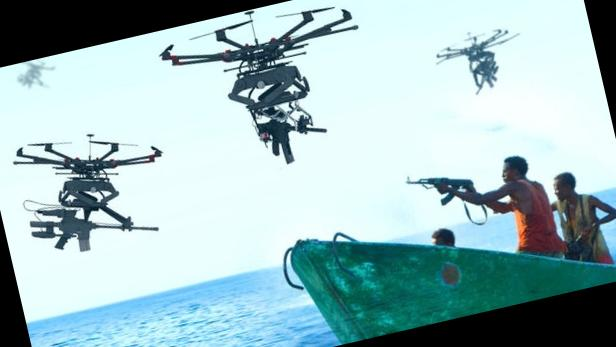drone: (150, 0, 376, 108), (12, 110, 174, 216), (433, 16, 533, 96)
